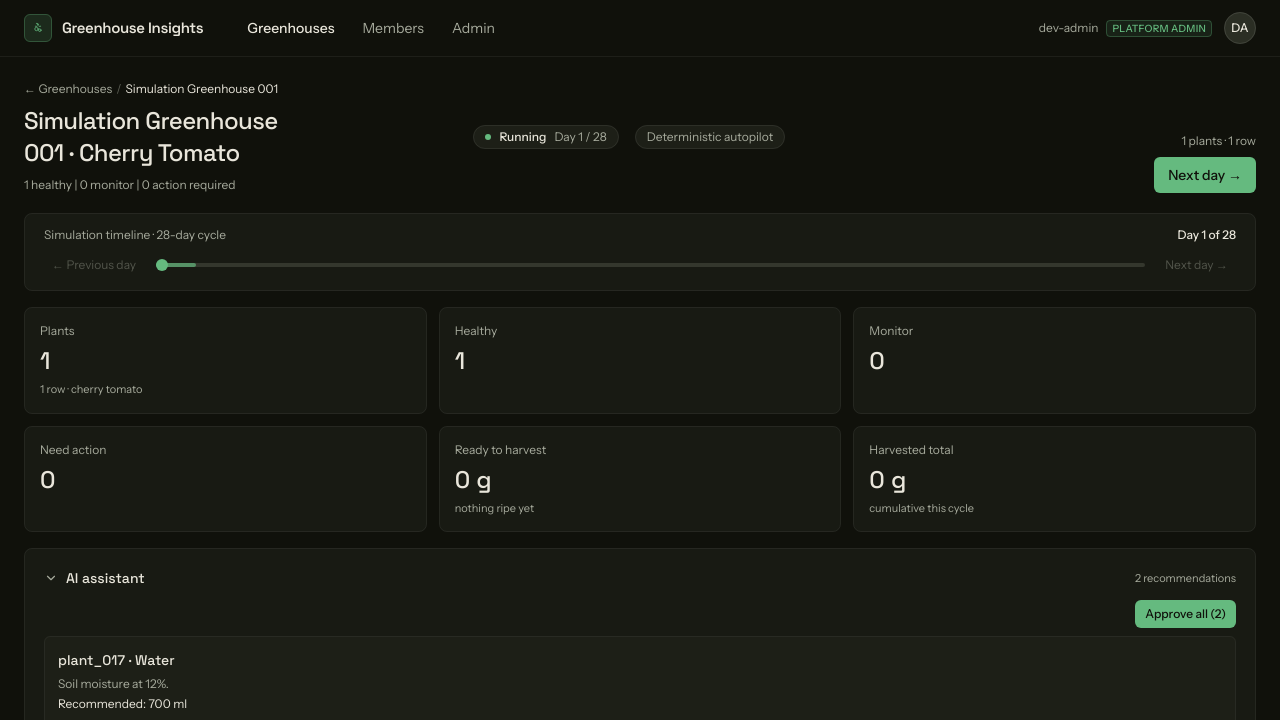
Test: GreenhouseDashboardPage › approve all executes every pending recommendation in one click
Click the button "Approve all (2)": {"x": 1186, "y": 614} [1135, 600, 1236, 628]
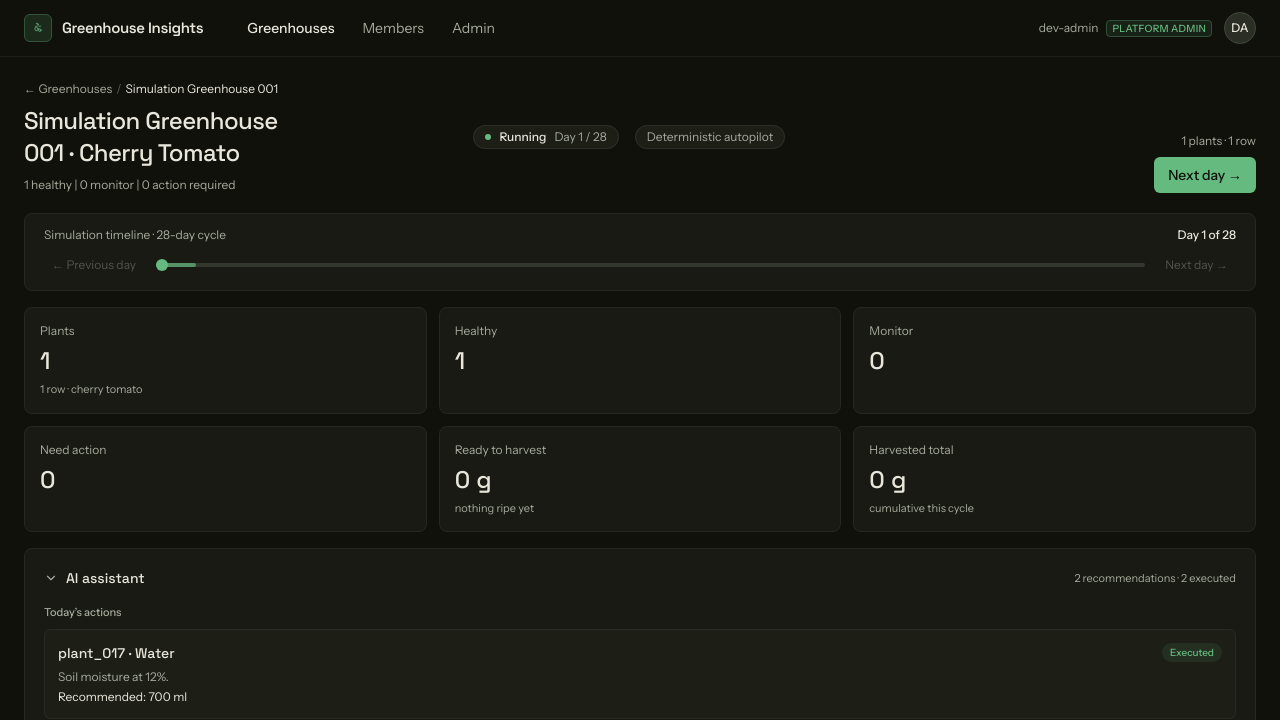
Result: the text "Executed" is shown 2 times
Result: the button "Approve all (2)" is gone
